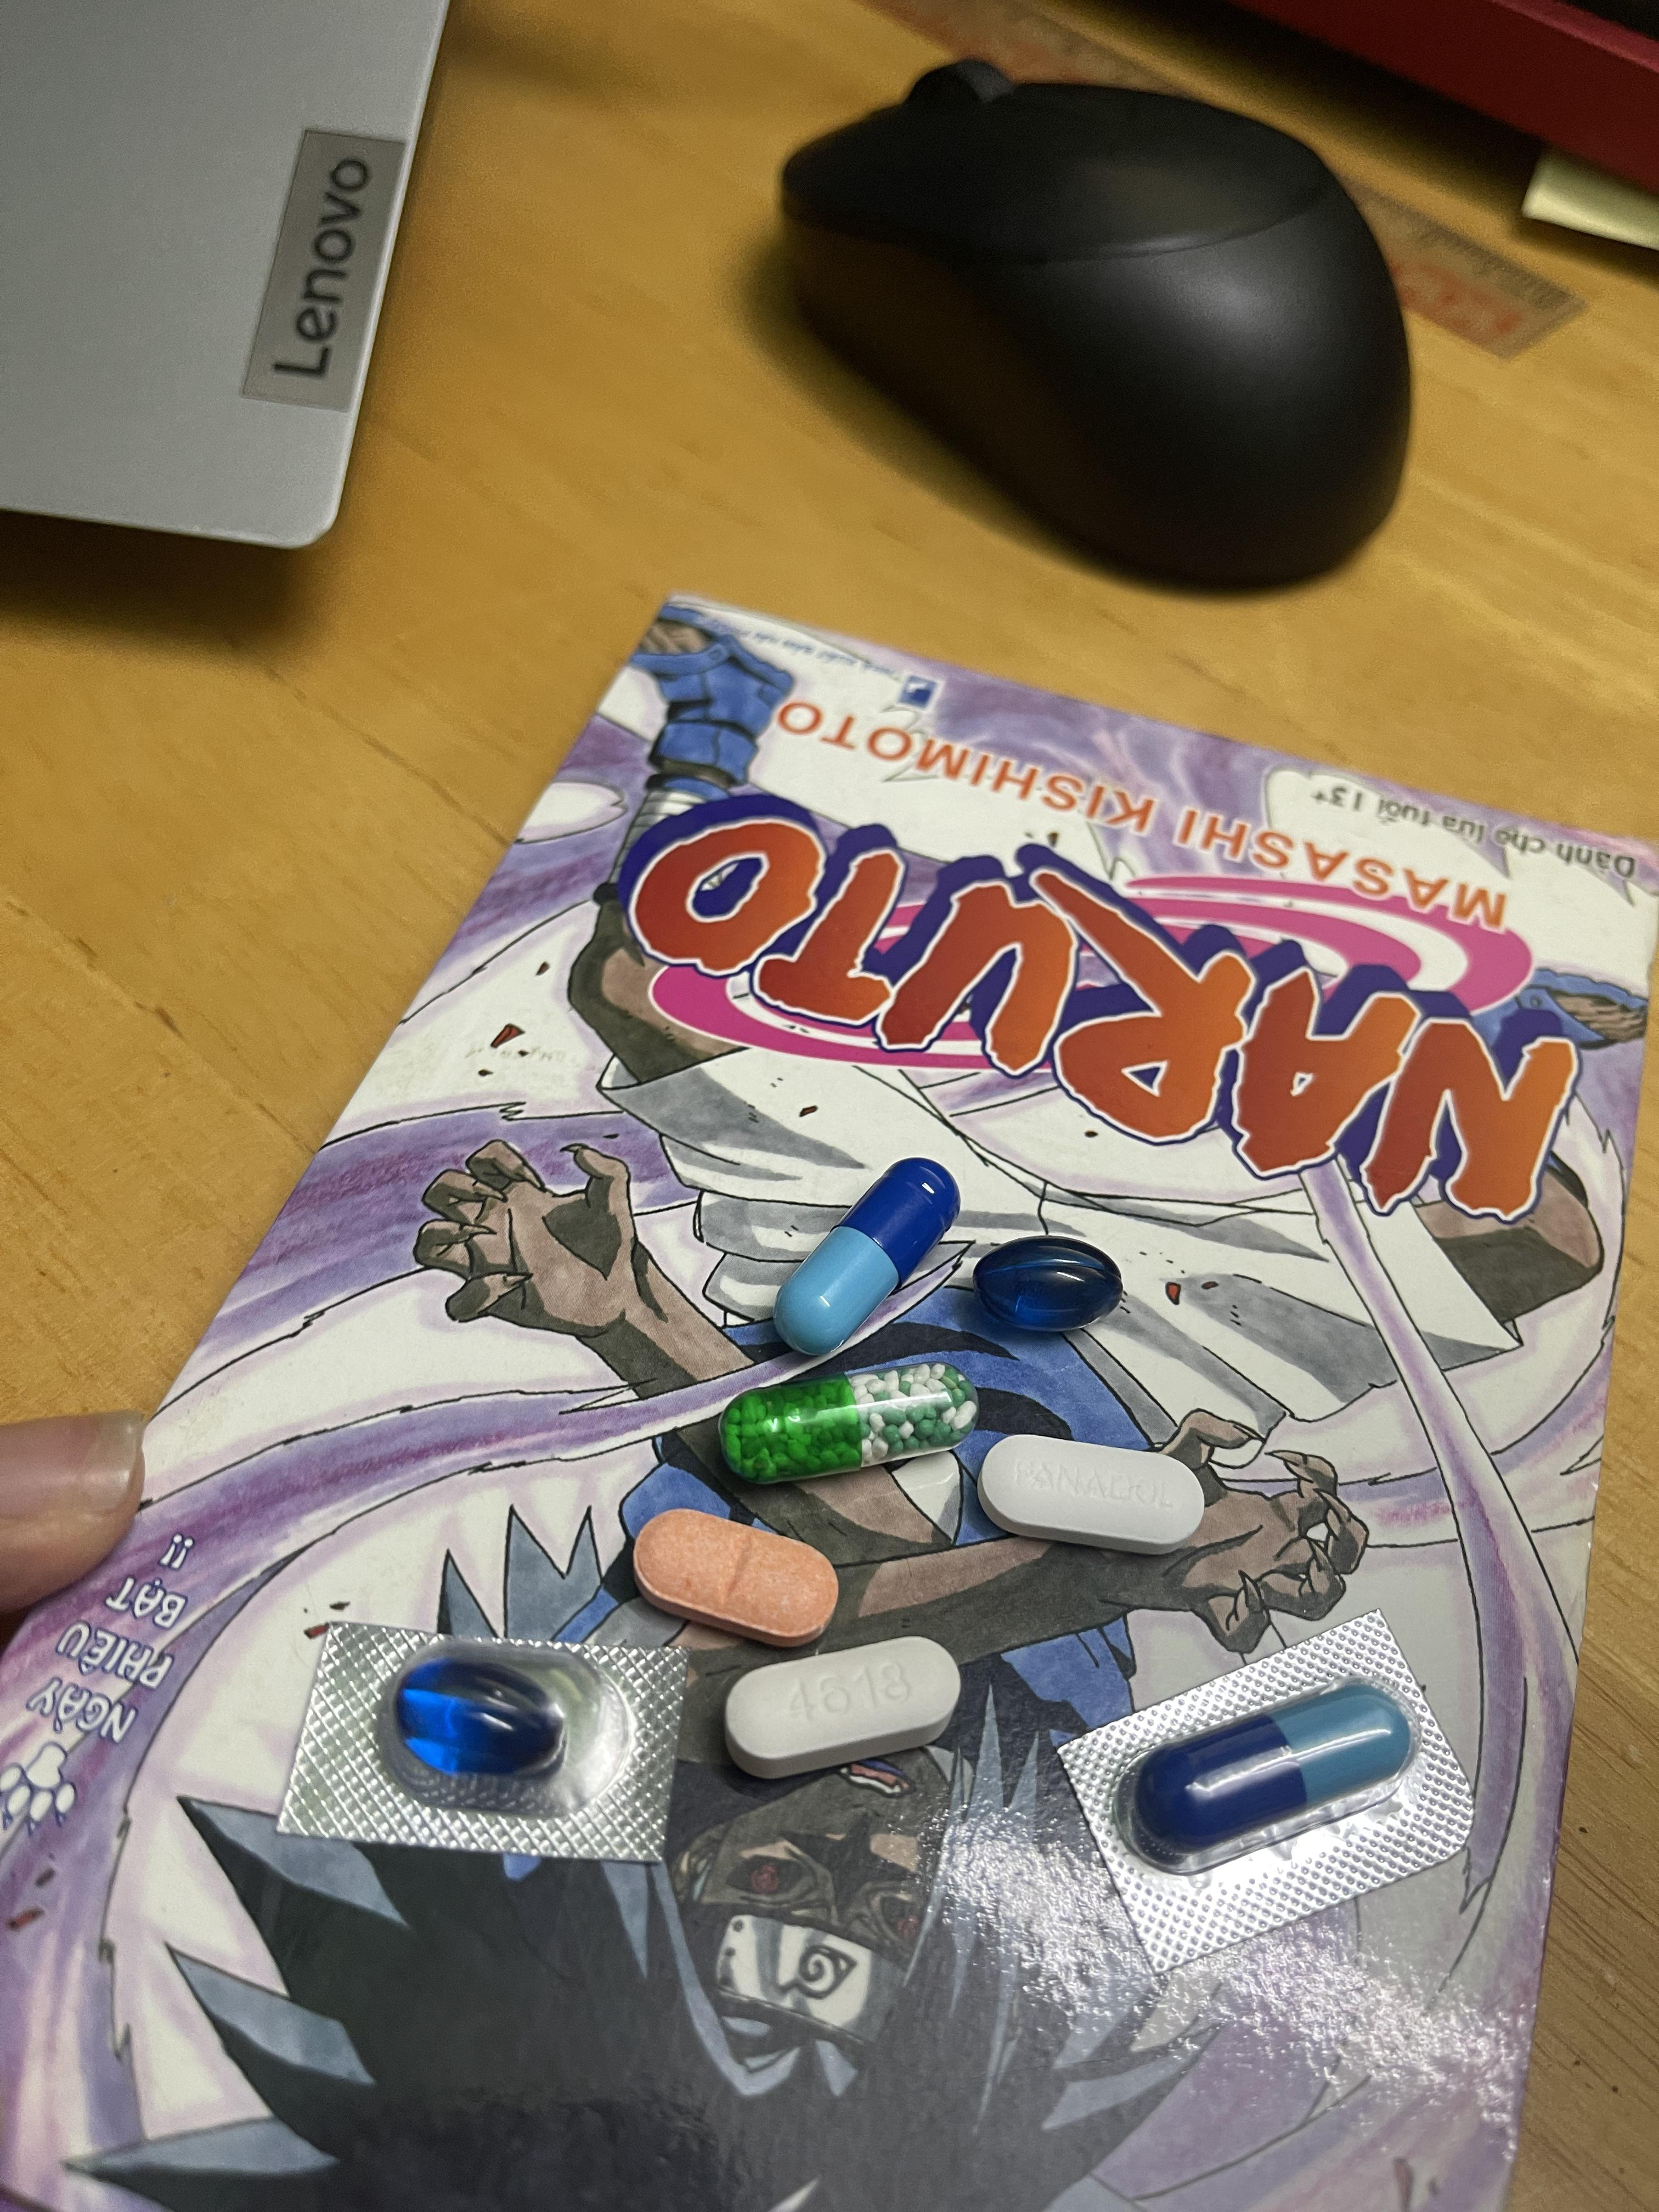Lincomyxin_500mg: (396, 1662, 563, 1780), (972, 1238, 1124, 1338)
Loratadine_10mg: (631, 1507, 835, 1641)
Paracetamol_350mg: (978, 1433, 1201, 1552)
Paracetamol_500mg: (725, 1634, 960, 1782)
Paracetamol_650mg: (718, 1364, 974, 1482)
pill: (1121, 1679, 1413, 1871), (769, 1158, 960, 1359)
